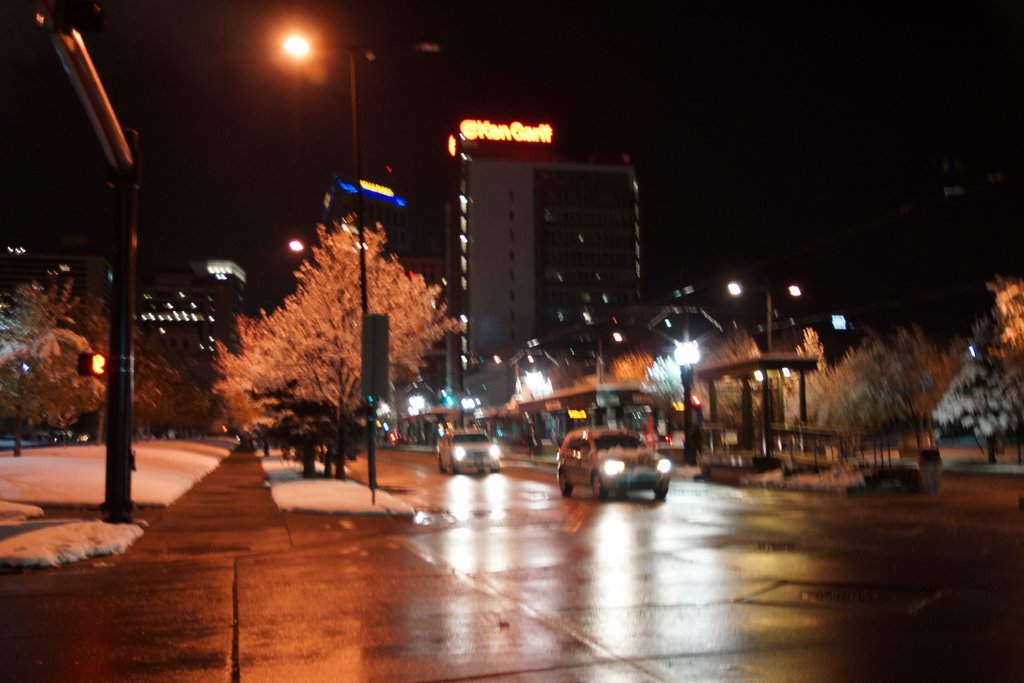Tree: (199, 173, 463, 467), (0, 275, 103, 464)
